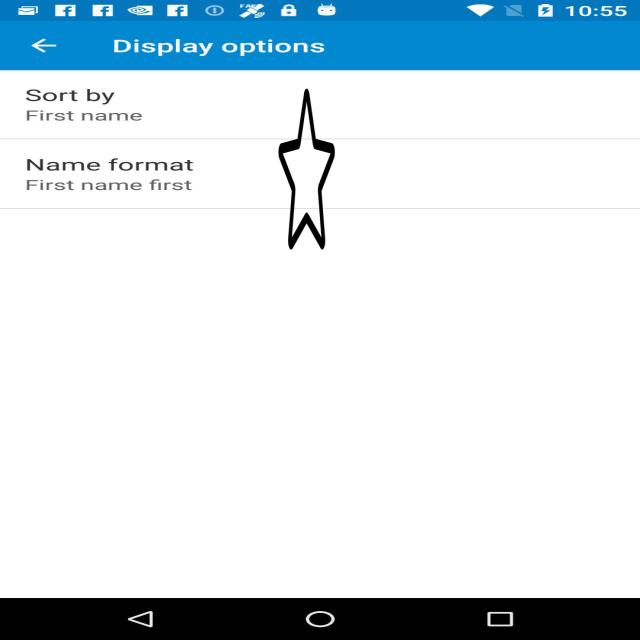forced continuity: (278, 85, 335, 253)
